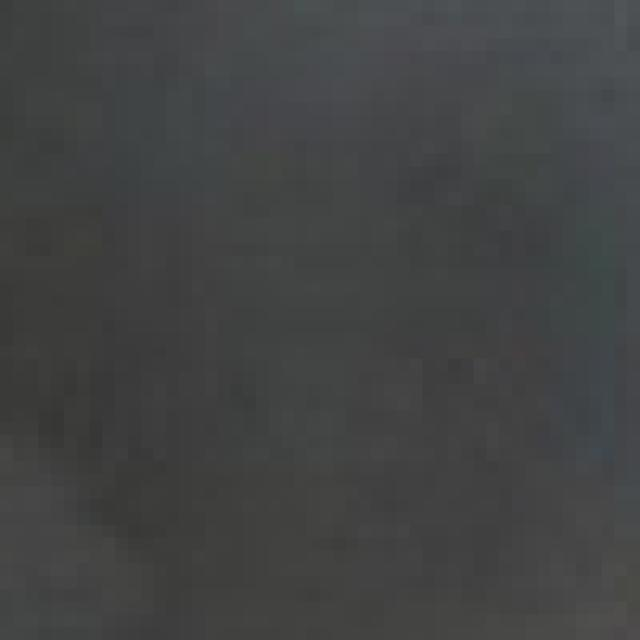fire: (0, 48, 640, 604)
